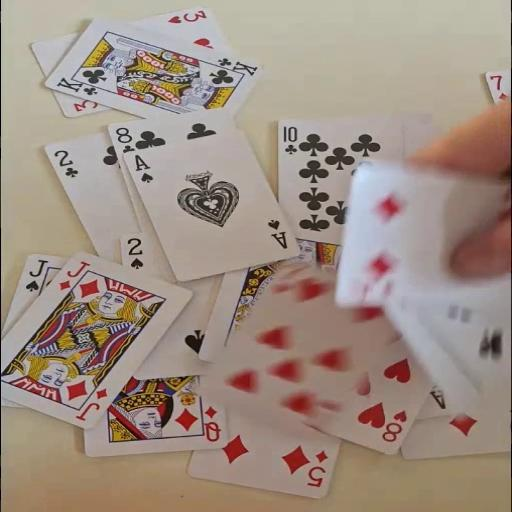10: (280, 124, 298, 155)
2: (50, 148, 80, 178), (126, 236, 146, 270)
3: (164, 8, 209, 24)
5: (304, 448, 331, 489)
7: (488, 73, 508, 101)
8: (378, 407, 408, 443), (112, 125, 136, 154)
A: (264, 217, 289, 249)
J: (72, 386, 110, 422), (56, 259, 92, 291), (23, 258, 49, 292)
K: (53, 74, 100, 96), (214, 55, 260, 77)
Q: (200, 404, 222, 443)
